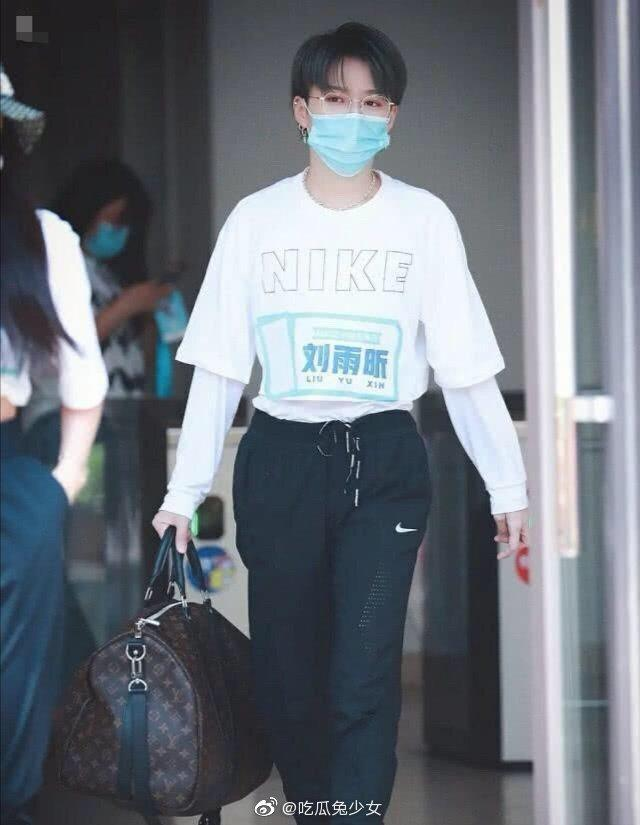OK: (306, 84, 392, 175), (87, 204, 131, 261)
